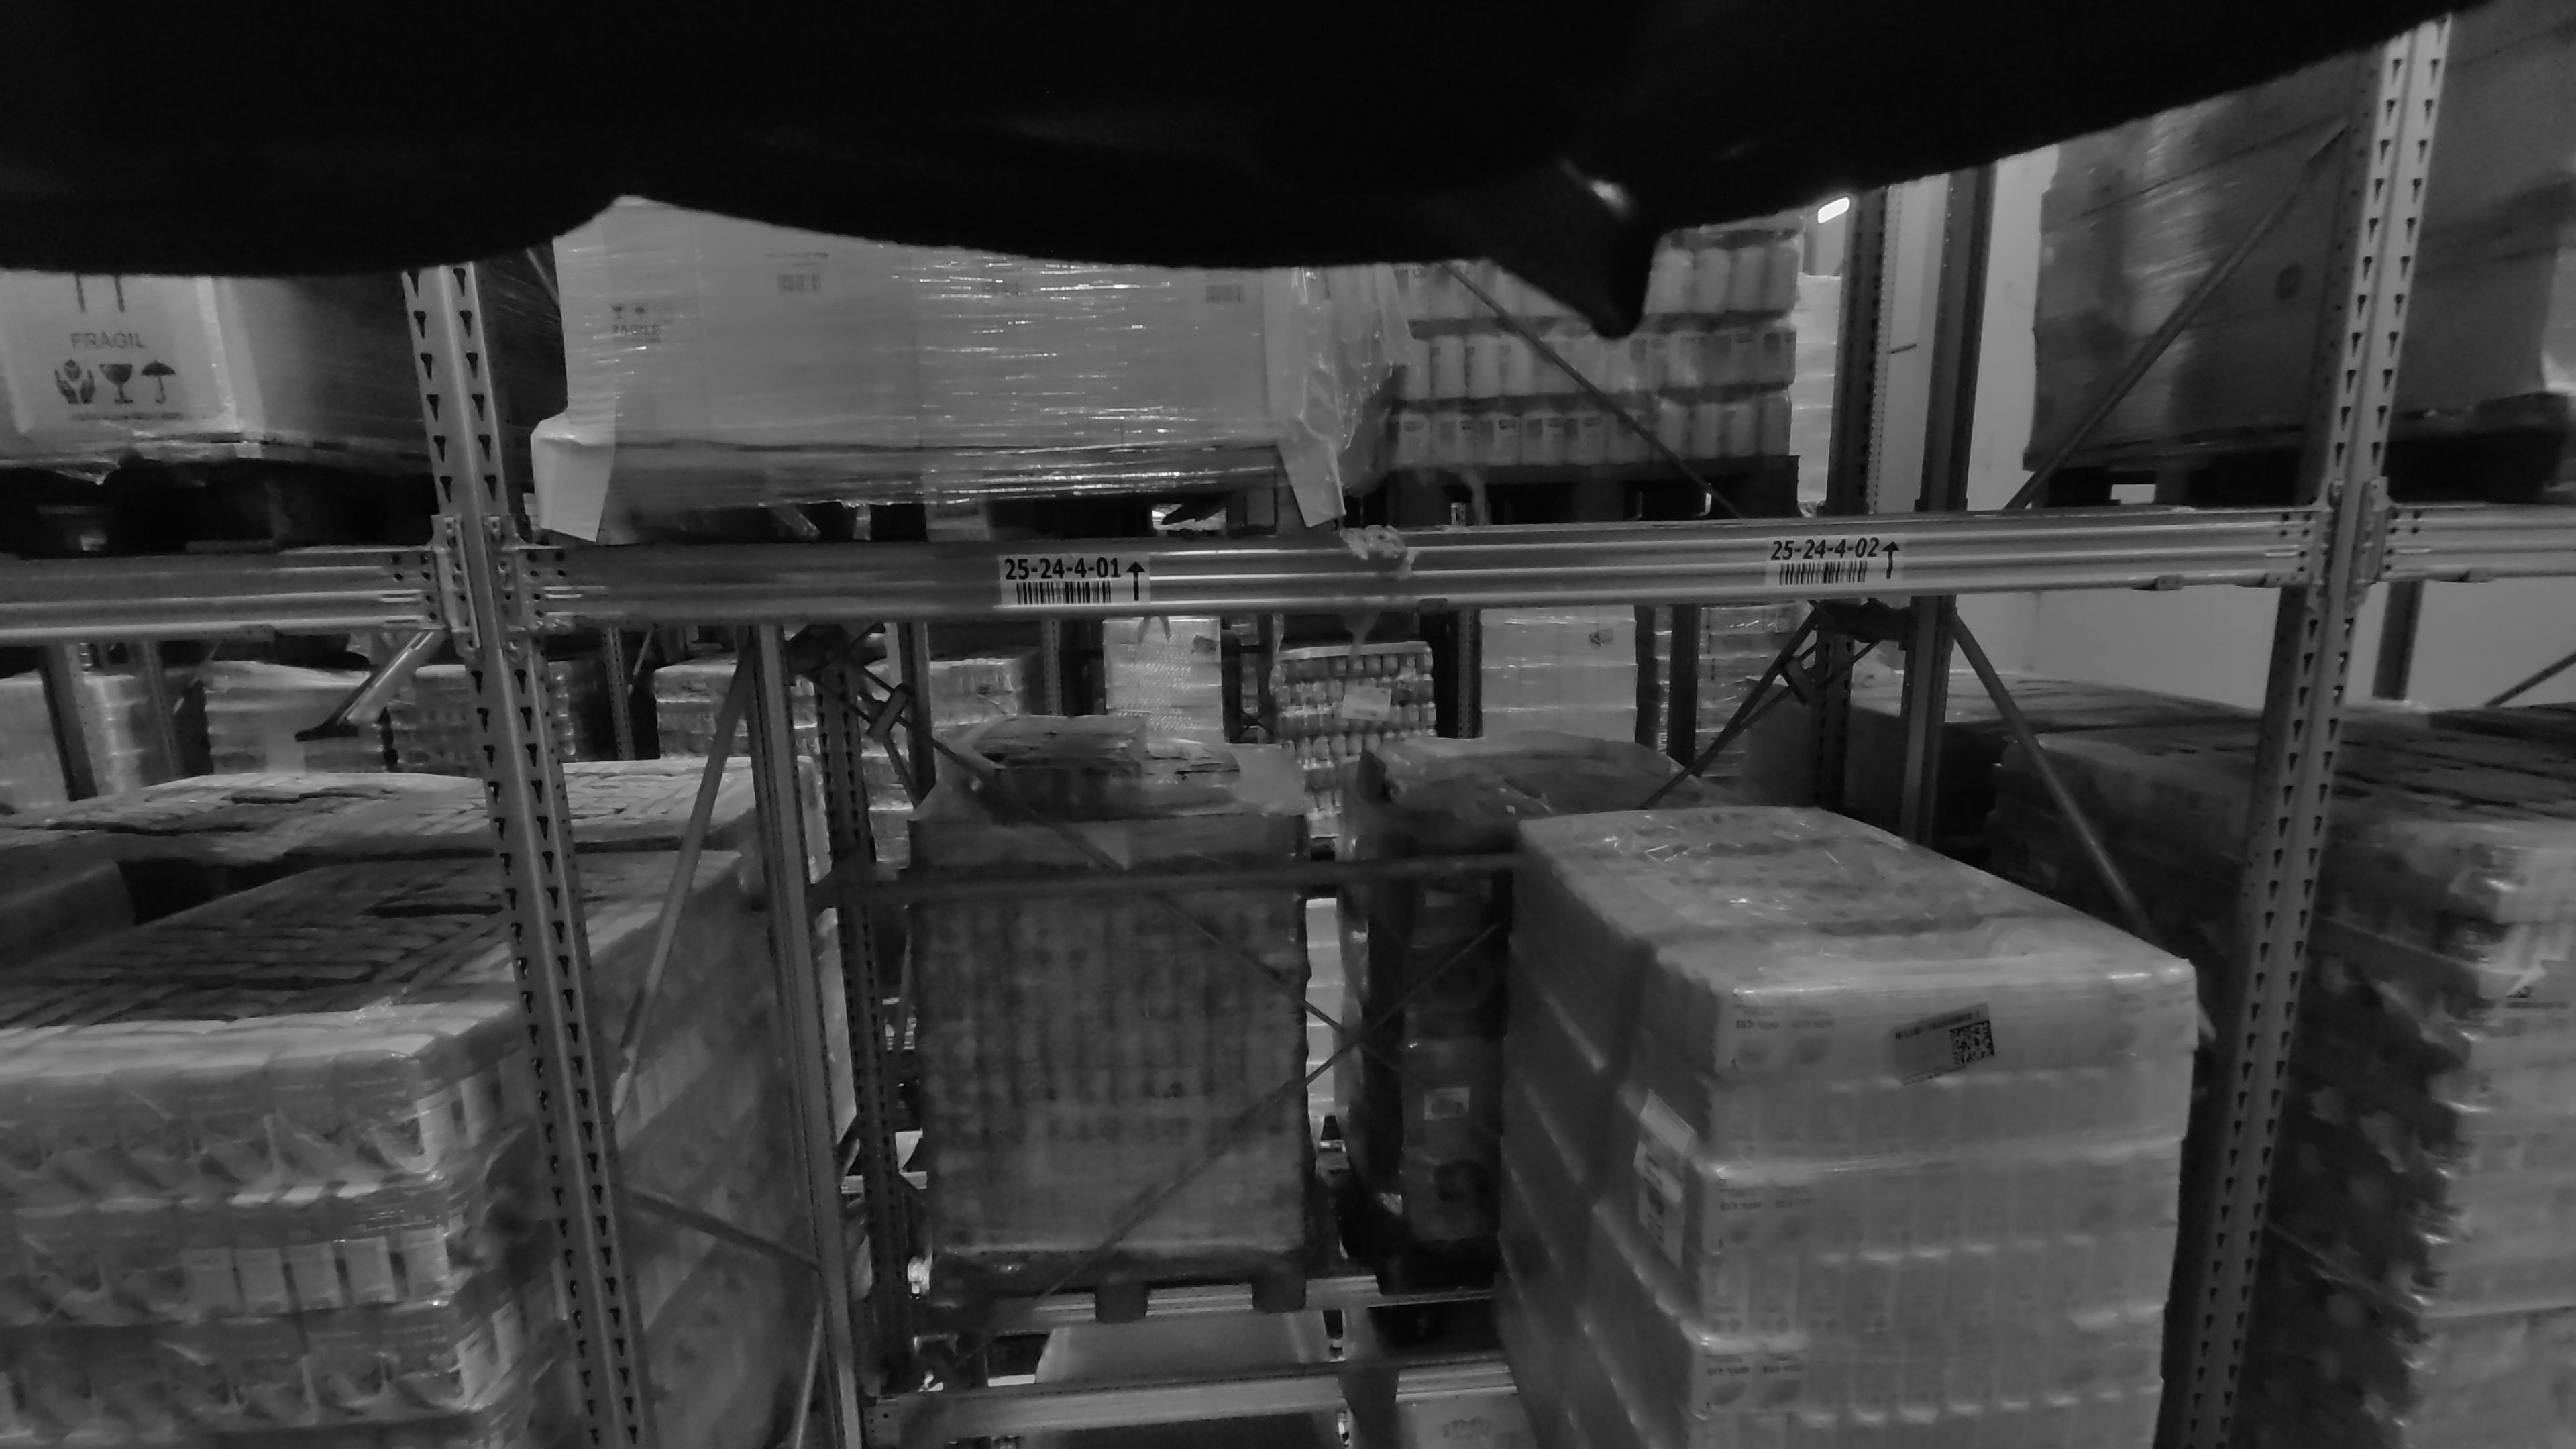empty-shelf: (1486, 257, 2194, 511)
